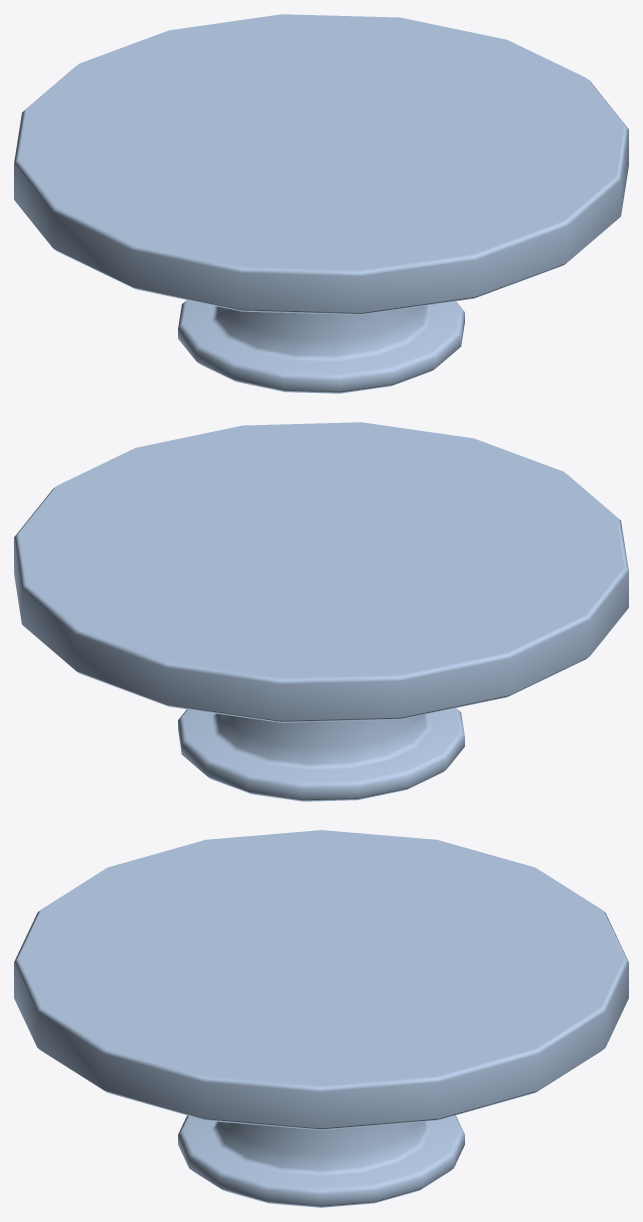
The model's file is SM_Building_02_part_02.fbx.
The picture shows the model from 3 angles, top to bottom: view 1: azimuth 30°, elevation 25°; view 2: azimuth 150°, elevation 25°; view 3: azimuth 270°, elevation 25°; orthographic projection.
Parts seen in each view (by area): view 1: SM_Building_02_Part_02; view 2: SM_Building_02_Part_02; view 3: SM_Building_02_Part_02.
Part boxes in pixels (box(x1,y1,x2,y2)): SM_Building_02_Part_02: box(14, 14, 628, 393); SM_Building_02_Part_02: box(14, 422, 628, 801); SM_Building_02_Part_02: box(14, 830, 628, 1207).
Size of the model in its own units: 3162 by 1086 by 3162.
